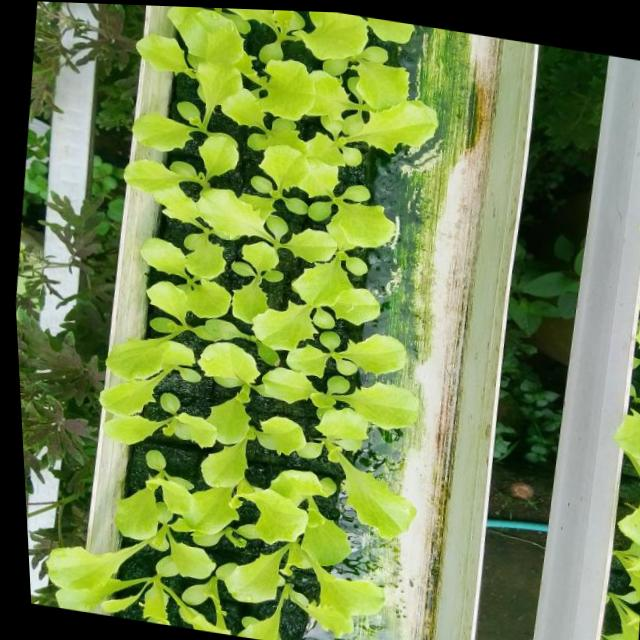Baby: (136, 6, 315, 120), (124, 134, 274, 242), (248, 92, 437, 166), (216, 542, 359, 633), (253, 263, 380, 349), (115, 450, 232, 543), (237, 470, 350, 565), (304, 437, 399, 534), (140, 225, 232, 324), (282, 166, 394, 247), (99, 373, 218, 447), (286, 329, 406, 378), (310, 377, 418, 430), (229, 240, 296, 323), (106, 324, 199, 381), (197, 341, 261, 404), (201, 431, 248, 487)
